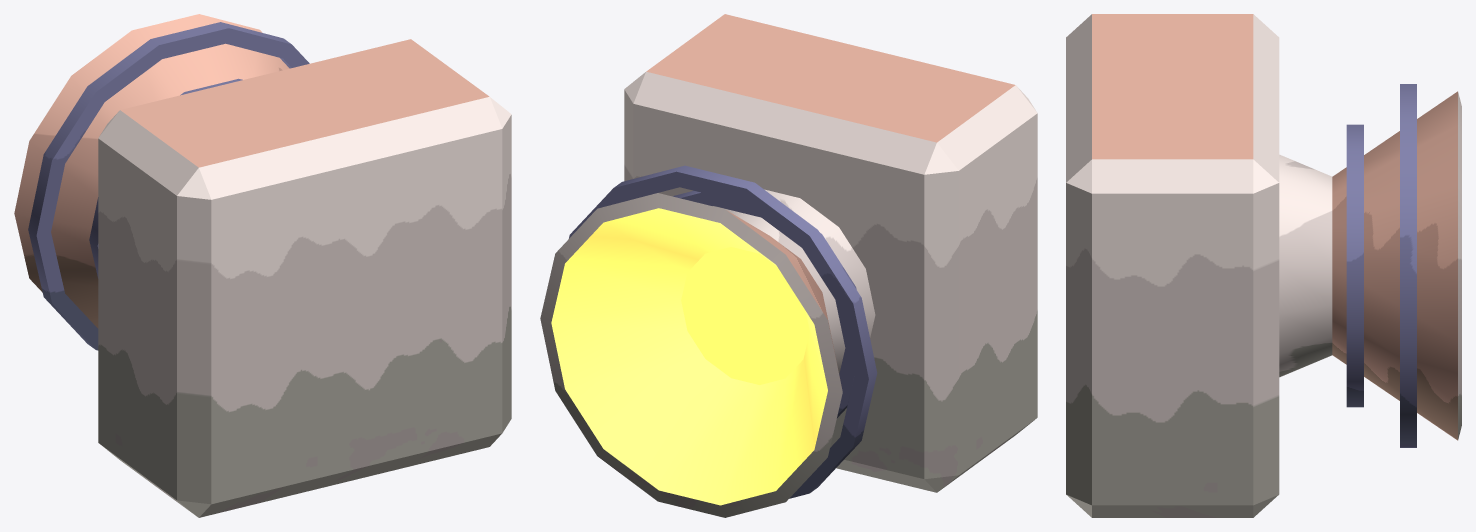
Rendered from R4X_Booster_LOD1.glb.
3 renders of one model, left to right at view 1: azimuth 30°, elevation 25°; view 2: azimuth 150°, elevation 25°; view 3: azimuth 270°, elevation 25°, orthographic. The views are drawn at different scales.
Visible parts, largest first — view 1: R4X_Booster_LOD1; view 2: R4X_Booster_LOD1; view 3: R4X_Booster_LOD1.
Boxes of the visible parts, x1,y1,x2,y2 form: R4X_Booster_LOD1: (14, 14, 511, 517); R4X_Booster_LOD1: (540, 14, 1037, 517); R4X_Booster_LOD1: (1066, 14, 1461, 517).
Bounding box in the file's own units: 0.52 × 0.52 × 0.52.
Materials: 4 (3 with a texture image).
